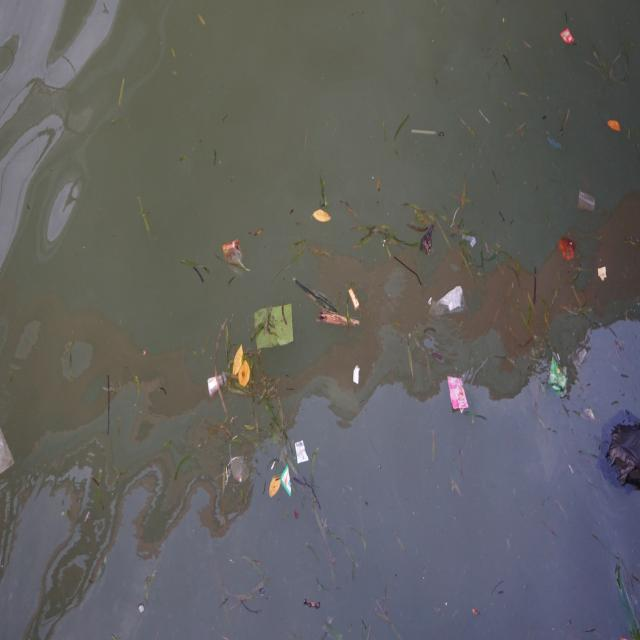Bungkus Makanan: (548, 356, 572, 397), (221, 235, 246, 273), (295, 438, 310, 466)
Bungkus Minuman: (577, 188, 598, 215)
Kantong Plastik: (597, 404, 640, 495), (430, 284, 468, 322), (229, 454, 251, 486)
